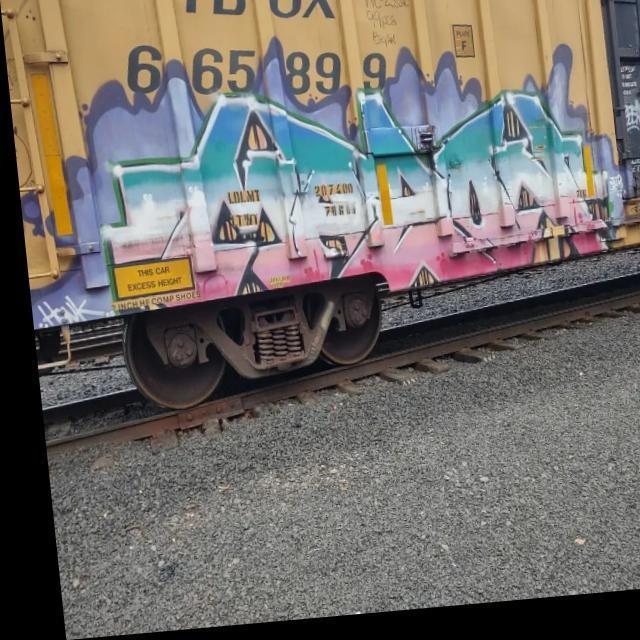-: (56, 39, 626, 320), (119, 0, 397, 126), (103, 257, 196, 313), (308, 183, 357, 230), (213, 192, 260, 232)
